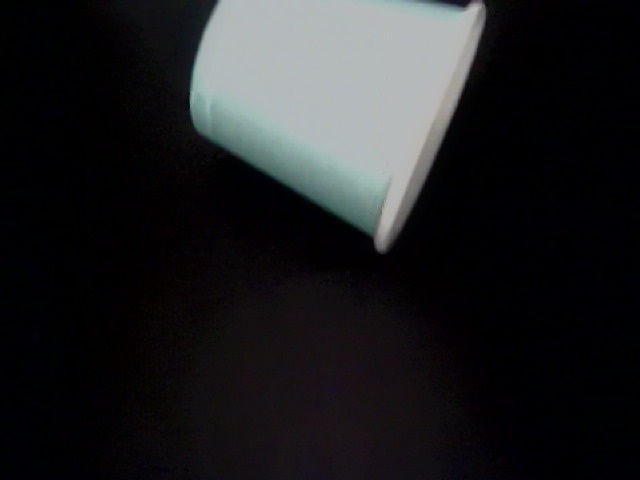KHSLJ: (34, 1, 319, 250)
